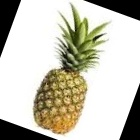Pineapple: (33, 13, 114, 136)
